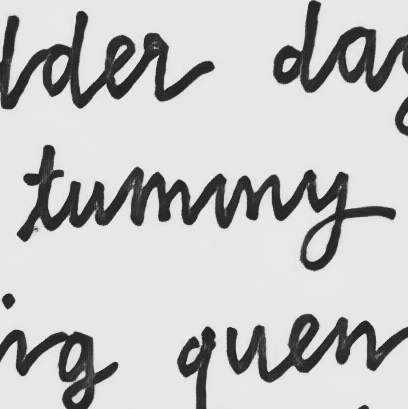m: (213, 172, 285, 232), (127, 167, 193, 230)
t: (22, 143, 65, 233)
u: (67, 177, 107, 230)
y: (294, 166, 351, 273)
